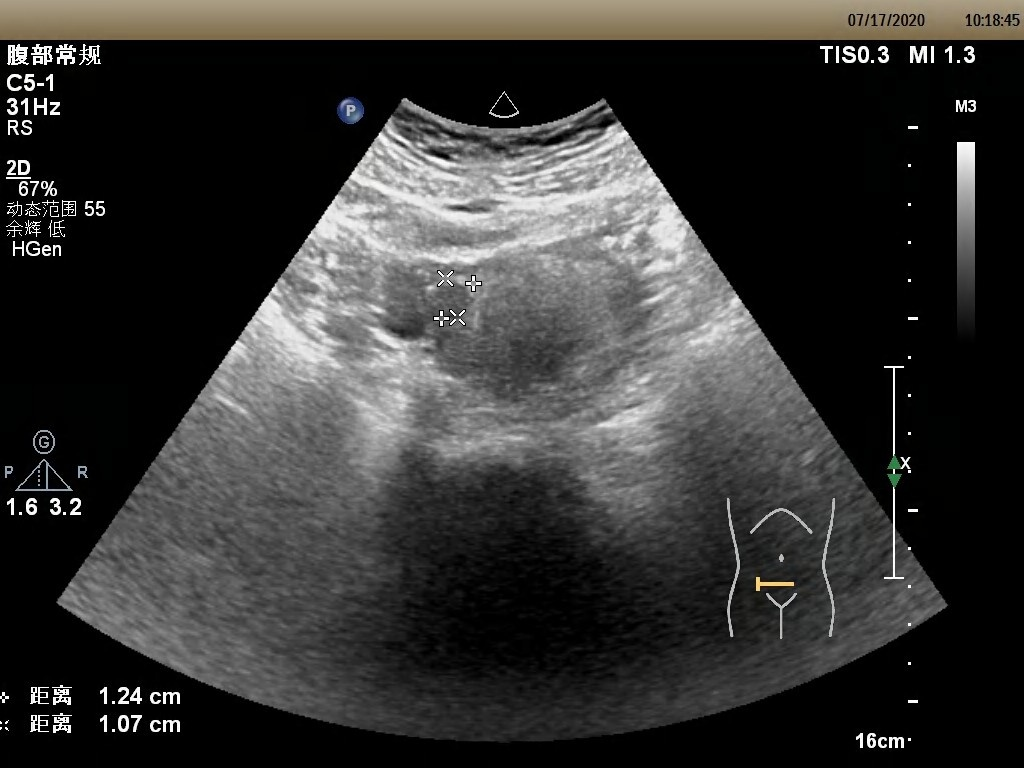肌瘤: (438, 286, 467, 318)
